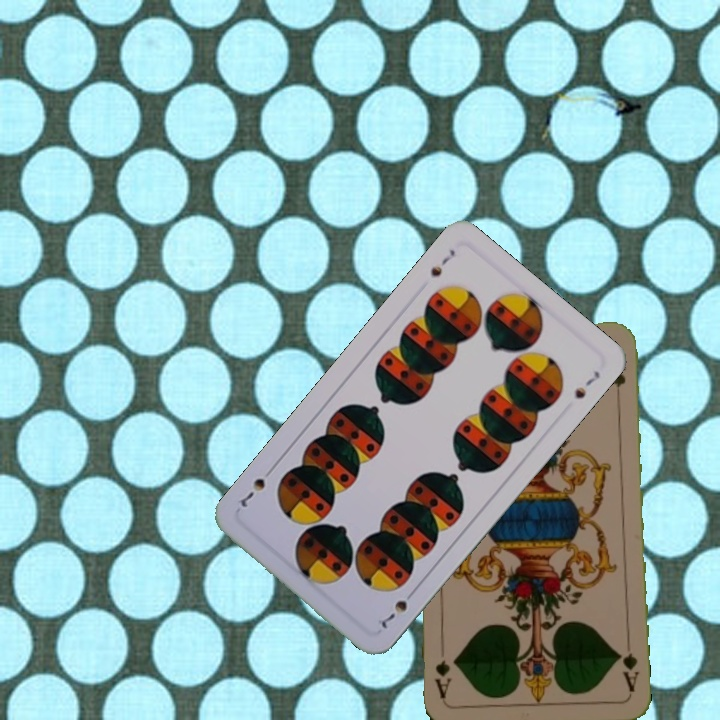GA: (614, 636, 641, 695)
S7: (374, 585, 419, 632), (426, 244, 458, 280)
